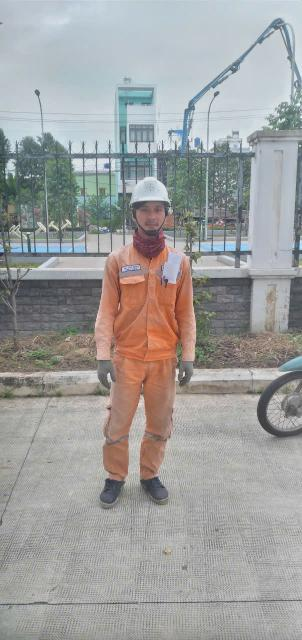gloves: (180, 343, 202, 392), (95, 358, 121, 391)
helmet: (116, 160, 177, 213)
shoes: (133, 463, 178, 509), (85, 466, 131, 507)
